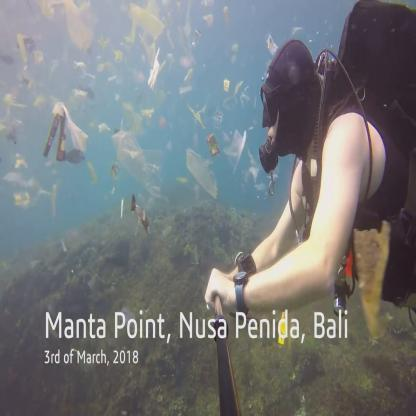Rác: (50, 93, 83, 168), (52, 1, 98, 51), (109, 127, 149, 176), (124, 9, 172, 46), (182, 148, 219, 195), (6, 162, 43, 207), (121, 194, 153, 235), (226, 127, 249, 168), (187, 98, 208, 134), (220, 78, 243, 100), (189, 23, 204, 53)
